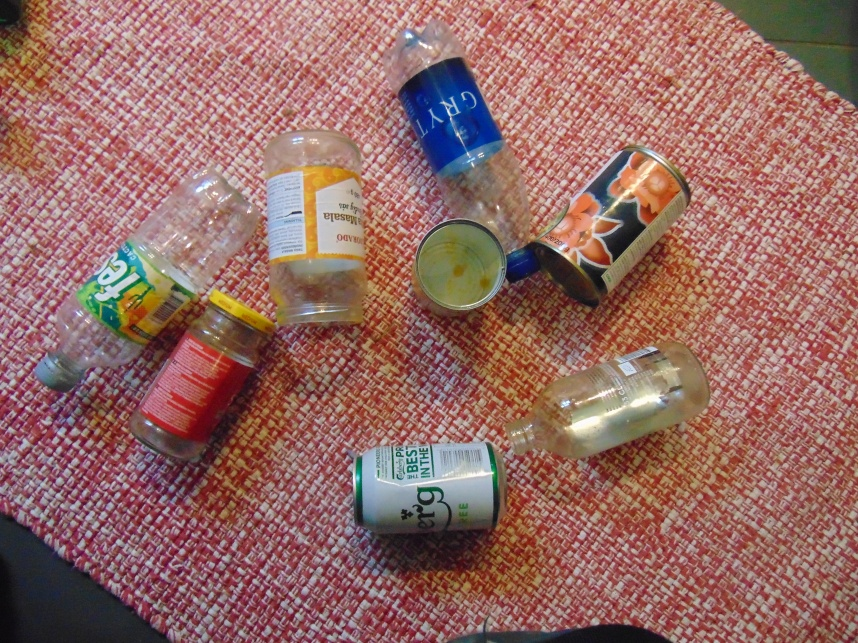glass_bottle: (503, 337, 713, 463), (127, 289, 275, 464), (264, 129, 367, 330)
metal_can: (528, 144, 692, 309), (353, 439, 507, 537), (410, 218, 503, 316)
plastic_bottle: (35, 166, 260, 393), (384, 20, 539, 284)
